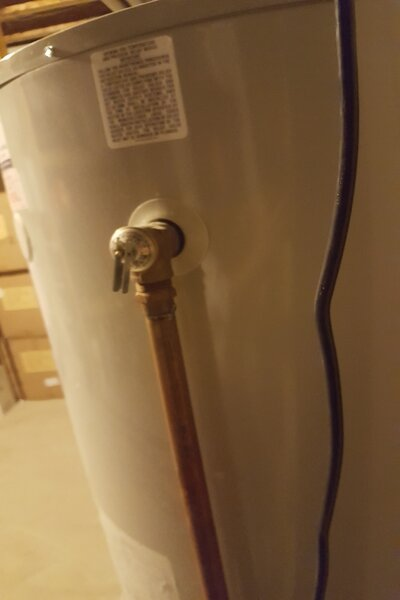valve: (104, 219, 184, 314)
